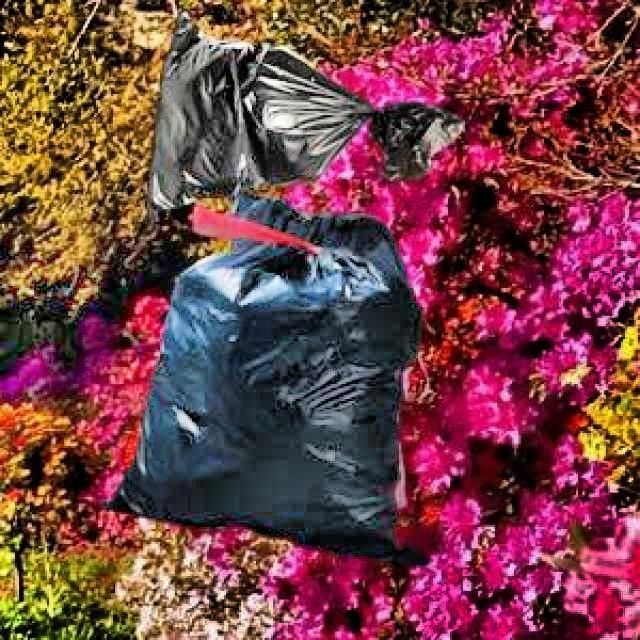Trashbag: (102, 236, 427, 564), (146, 12, 470, 215)
